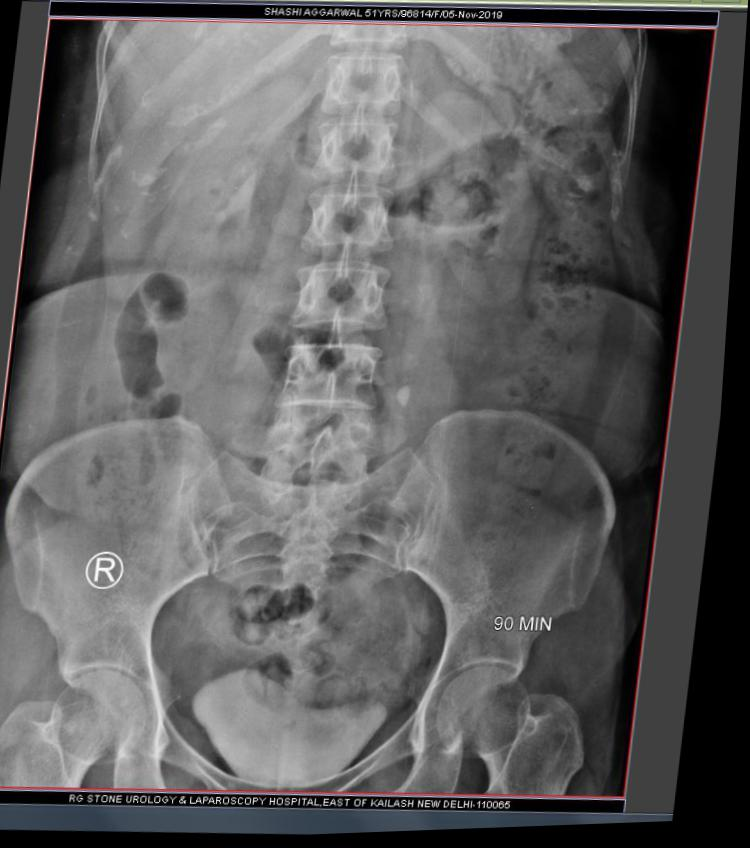bladder: (179, 645, 415, 798)
left kidney: (392, 82, 566, 321)
right kidney: (142, 65, 319, 305)
vertebrae: (310, 117, 402, 184)
